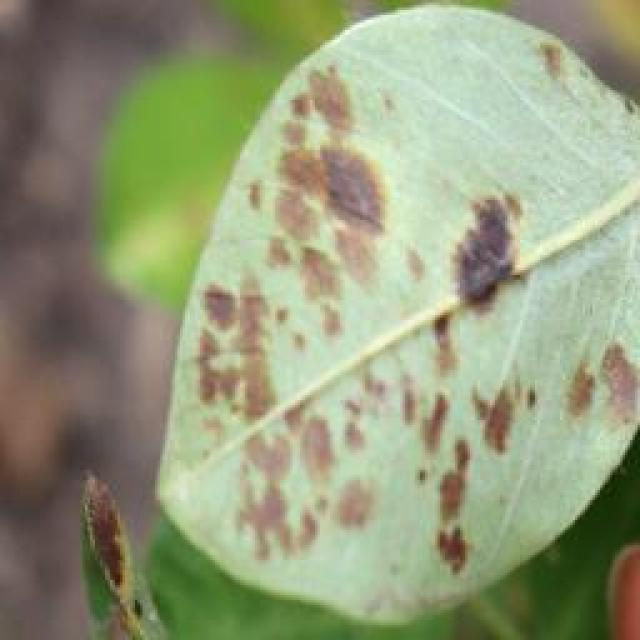Whitefly: (167, 15, 630, 580)
